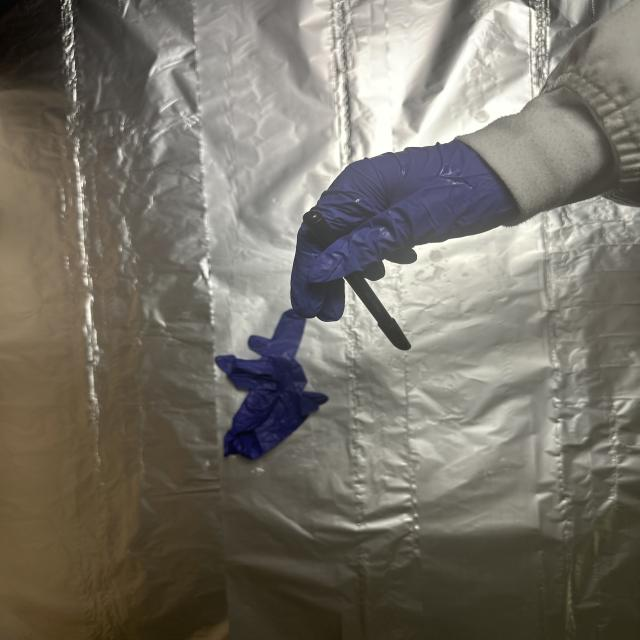gloves_contaminated: (291, 141, 517, 322)
